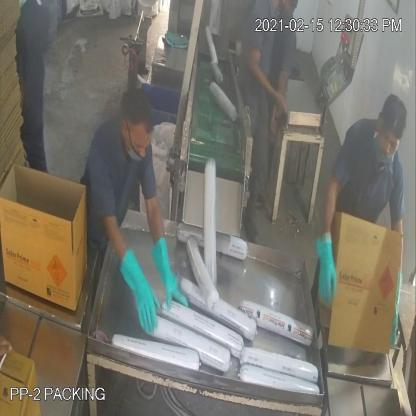glove: (119, 238, 166, 342), (152, 231, 190, 311), (310, 225, 344, 305)
no_glove: (241, 41, 288, 116), (270, 64, 292, 150)
